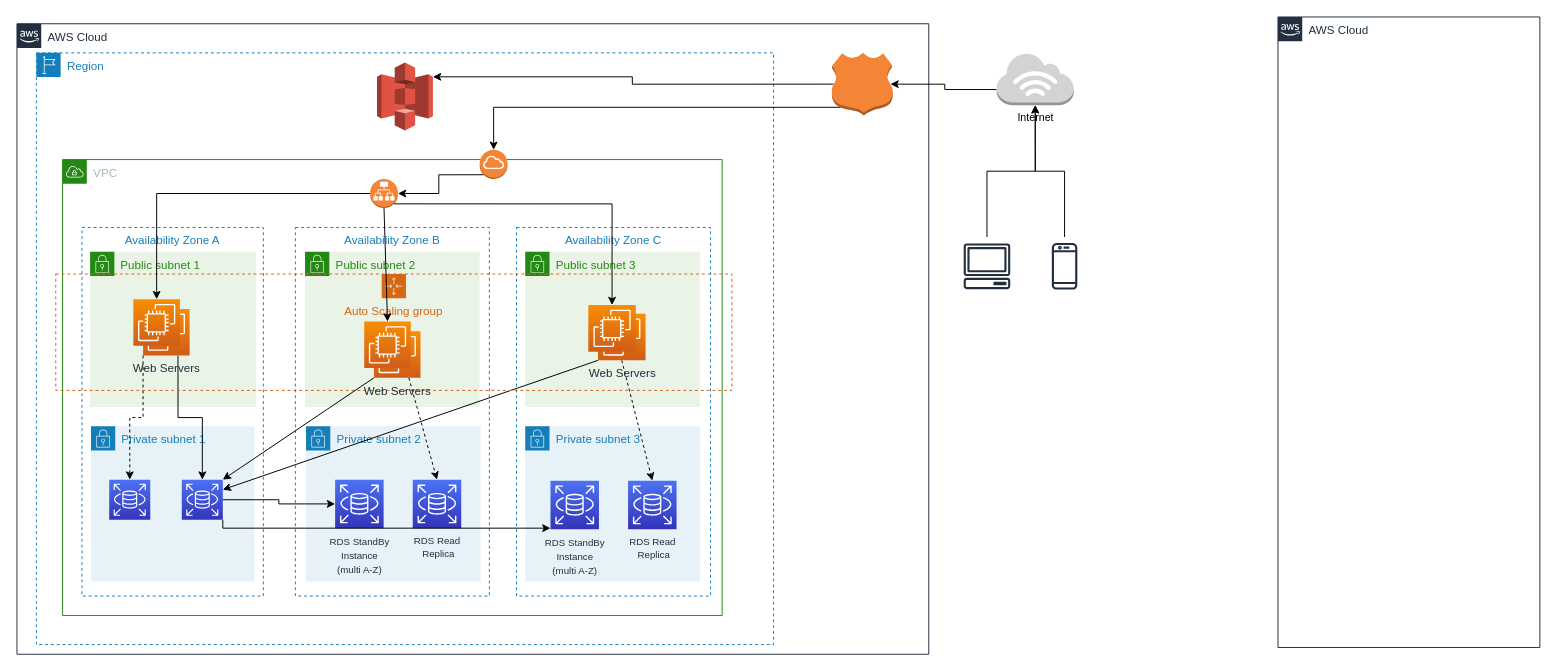
Image size: 1557x671. Some labels were removed from this diagram. Each missing label, with the centre of its shape:
"Client" belongs at point 986,265.
"Hosted Zone" belongs at point 862,83.
"Mobile client" belongs at point 1064,265.
"RDS DB instance (Encryption Enabled)" belongs at point 202,499.
"RDS Read Replica" belongs at point 129,499.
"Static Site on S3" belongs at point 404,96.
